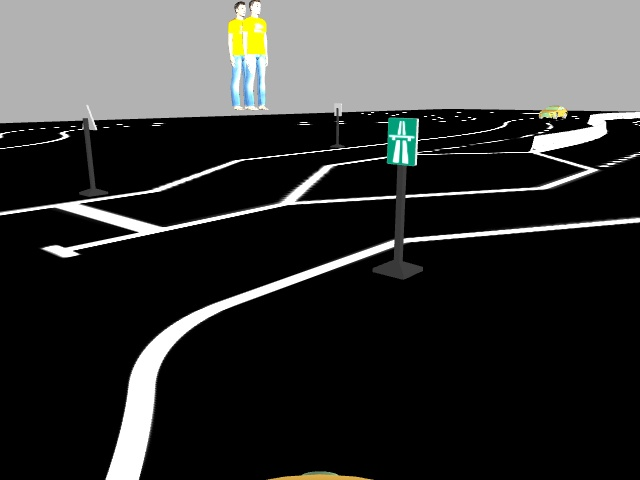HighwayEntrance: (382, 115, 418, 166)
